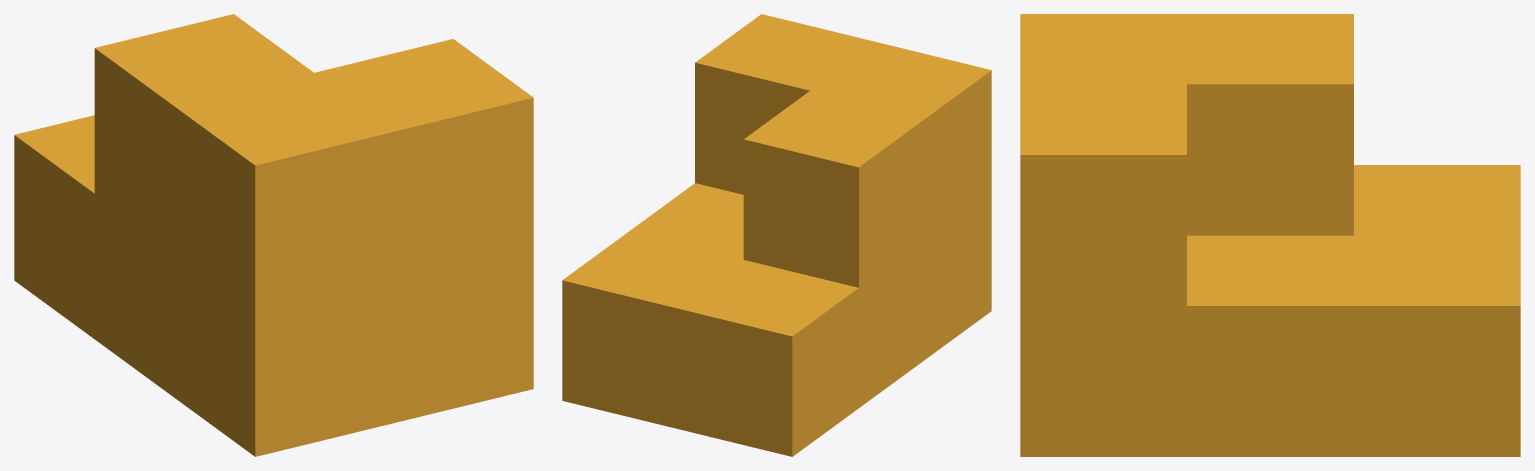
File: owl__leg_r.glb
3 views of the same model, side by side, from view 1: azimuth 30°, elevation 25°; view 2: azimuth 150°, elevation 25°; view 3: azimuth 270°, elevation 25° (orthographic). The views are drawn at different scales.
Visible parts, largest first — view 1: owl__leg_r; view 2: owl__leg_r; view 3: owl__leg_r.
Boxes of the visible parts, bbox=[...] form: owl__leg_r: bbox=[14, 14, 533, 456]; owl__leg_r: bbox=[562, 14, 991, 456]; owl__leg_r: bbox=[1020, 14, 1520, 456].
Size of the model in its own units: 0.2 by 0.2 by 0.3.
1 material, 1 textured.
